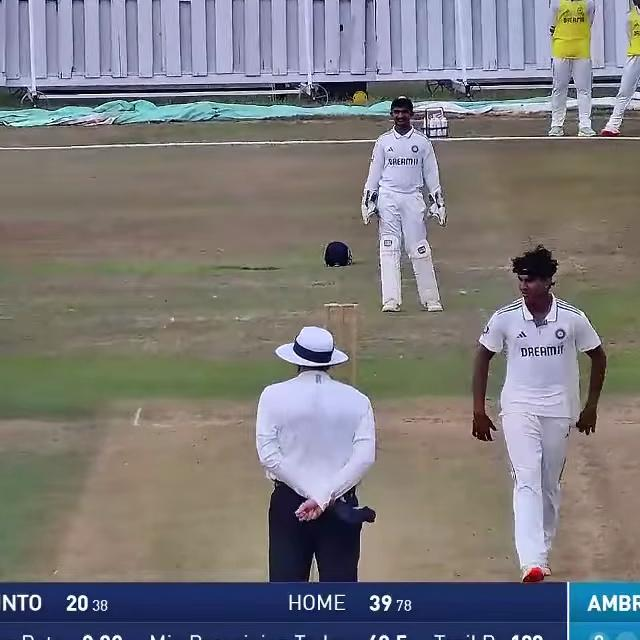umpire: (241, 316, 389, 582)
